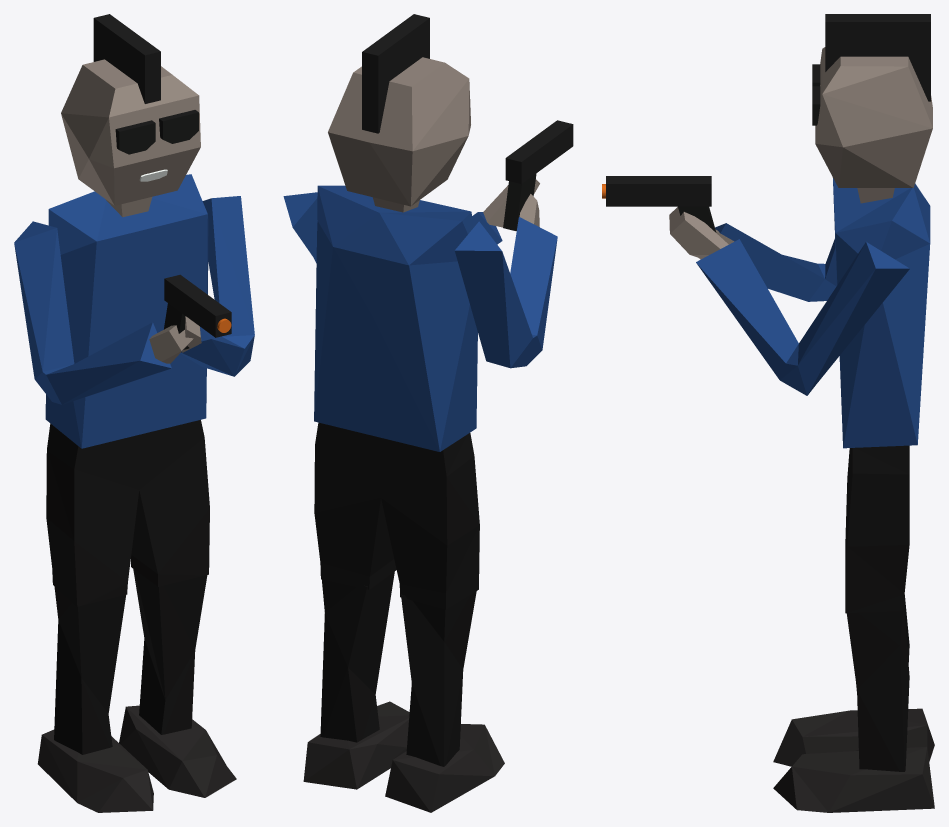
Rendered from player1.fbx.
The picture shows the model from 3 angles, left to right: view 1: azimuth 30°, elevation 25°; view 2: azimuth 150°, elevation 25°; view 3: azimuth 270°, elevation 25°; orthographic projection. The views are drawn at different scales.
Visible parts, largest first — view 1: ZBody, ZPants, ZombieHead(Root), ZArmRight, ZPants.001, ZPants.002, ZArmLeft, ZFootRight, ZFootLeft, Cube.004, Cube.001, ZEyeRight (+2 smaller); view 2: ZBody, ZPants, ZombieHead(Root), ZArmRight, ZPants.002, ZPants.001, ZFootRight, ZFootLeft, Cube.004, Cube.001, ZArmLeft, Cube (+1 smaller); view 3: ZBody, ZombieHead(Root), ZArmLeft, ZPants, ZPants.002, ZFootLeft, Cube.004, ZFootRight, ZArmRight, Cube.001, Cube.003.
Boxes of the visible parts, <box> form: ZBody: <box>45,174,208,448</box>; ZPants: <box>46,420,209,606</box>; ZombieHead(Root): <box>61,59,200,217</box>; ZArmRight: <box>14,221,171,404</box>; ZPants.001: <box>54,586,125,754</box>; ZPants.002: <box>133,569,207,734</box>; ZArmLeft: <box>180,196,254,376</box>; ZFootRight: <box>37,729,153,812</box>; ZFootLeft: <box>119,705,236,797</box>; Cube.004: <box>93,14,160,103</box>; Cube.001: <box>164,274,231,337</box>; ZEyeRight: <box>115,120,155,154</box>; ZBody: <box>314,185,477,451</box>; ZPants: <box>314,422,479,609</box>; ZombieHead(Root): <box>328,57,470,212</box>; ZArmRight: <box>454,217,557,368</box>; ZPants.002: <box>320,571,394,742</box>; ZPants.001: <box>401,591,476,766</box>; ZFootRight: <box>385,724,504,812</box>; ZFootLeft: <box>303,701,409,789</box>; Cube.004: <box>362,14,429,133</box>; Cube.001: <box>505,120,573,183</box>; ZArmLeft: <box>283,192,502,263</box>; Cube: <box>503,173,536,230</box>; ZBody: <box>833,178,930,448</box>; ZombieHead(Root): <box>815,47,932,203</box>; ZArmLeft: <box>696,239,909,395</box>; ZPants: <box>845,445,909,613</box>; ZPants.002: <box>846,609,909,771</box>; ZFootLeft: <box>773,746,934,812</box>; Cube.004: <box>825,14,930,101</box>; ZFootRight: <box>773,708,934,766</box>; ZArmRight: <box>715,223,836,301</box>; Cube.001: <box>606,176,711,206</box>; Cube.003: <box>669,207,728,258</box>.
Size of the model in its own units: 467 by 1471 by 585.
